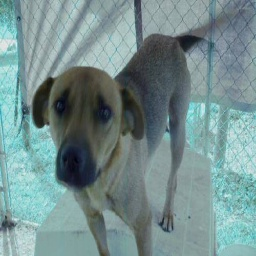dog: (28, 30, 195, 256)
